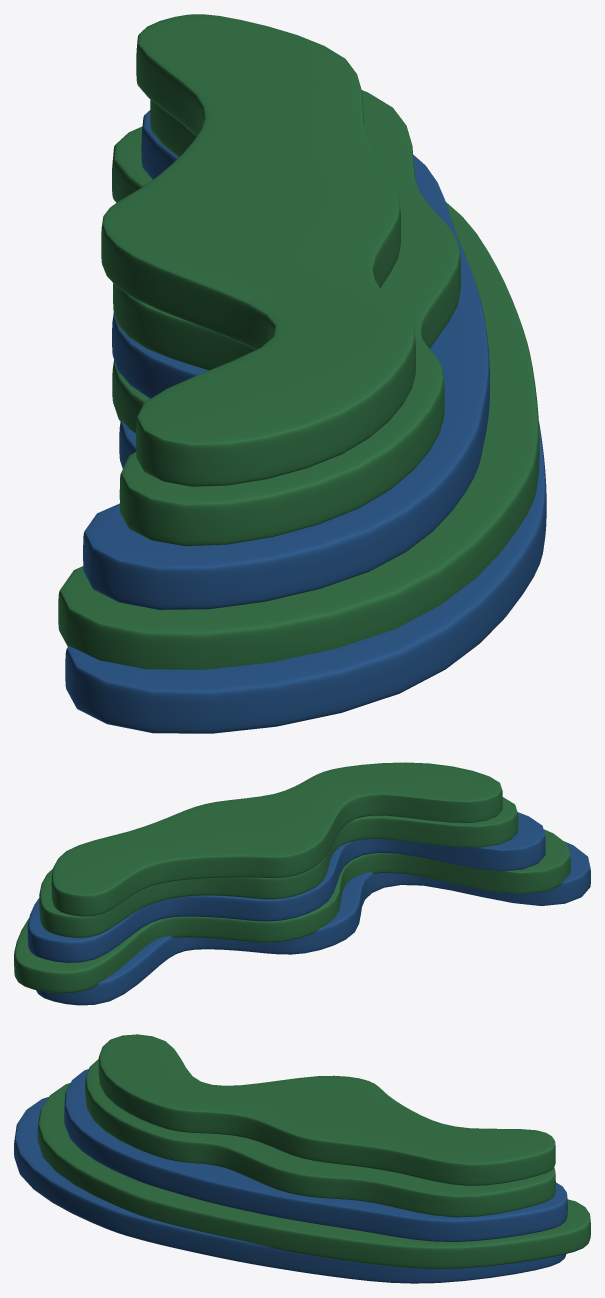
File: Fjell høyre second attempt.fbx
3 renders of one model, top to bottom at view 1: azimuth 30°, elevation 25°; view 2: azimuth 150°, elevation 25°; view 3: azimuth 270°, elevation 25°, orthographic. The views are drawn at different scales.
Parts seen in each view (by area): view 1: polySurface14, polySurface11, polySurface10, polySurface12, polySurface13; view 2: polySurface14, polySurface11, polySurface10, polySurface12, polySurface13; view 3: polySurface14, polySurface11, polySurface12, polySurface10, polySurface13.
Part boxes in pixels (bbox=[...]): polySurface14: bbox=[101, 14, 415, 486]; polySurface11: bbox=[58, 126, 539, 669]; polySurface10: bbox=[83, 110, 489, 609]; polySurface12: bbox=[113, 90, 460, 545]; polySurface13: bbox=[65, 420, 546, 733]; polySurface14: bbox=[51, 762, 502, 916]; polySurface11: bbox=[14, 829, 570, 993]; polySurface10: bbox=[27, 812, 545, 962]; polySurface12: bbox=[39, 797, 518, 937]; polySurface13: bbox=[36, 841, 590, 1005]; polySurface14: bbox=[98, 1034, 555, 1185]; polySurface11: bbox=[37, 1083, 590, 1268]; polySurface12: bbox=[85, 1059, 555, 1217]; polySurface10: bbox=[64, 1069, 567, 1241]; polySurface13: bbox=[14, 1097, 566, 1283].
Bounding box in the file's own units: 1308 × 376 × 1808.
